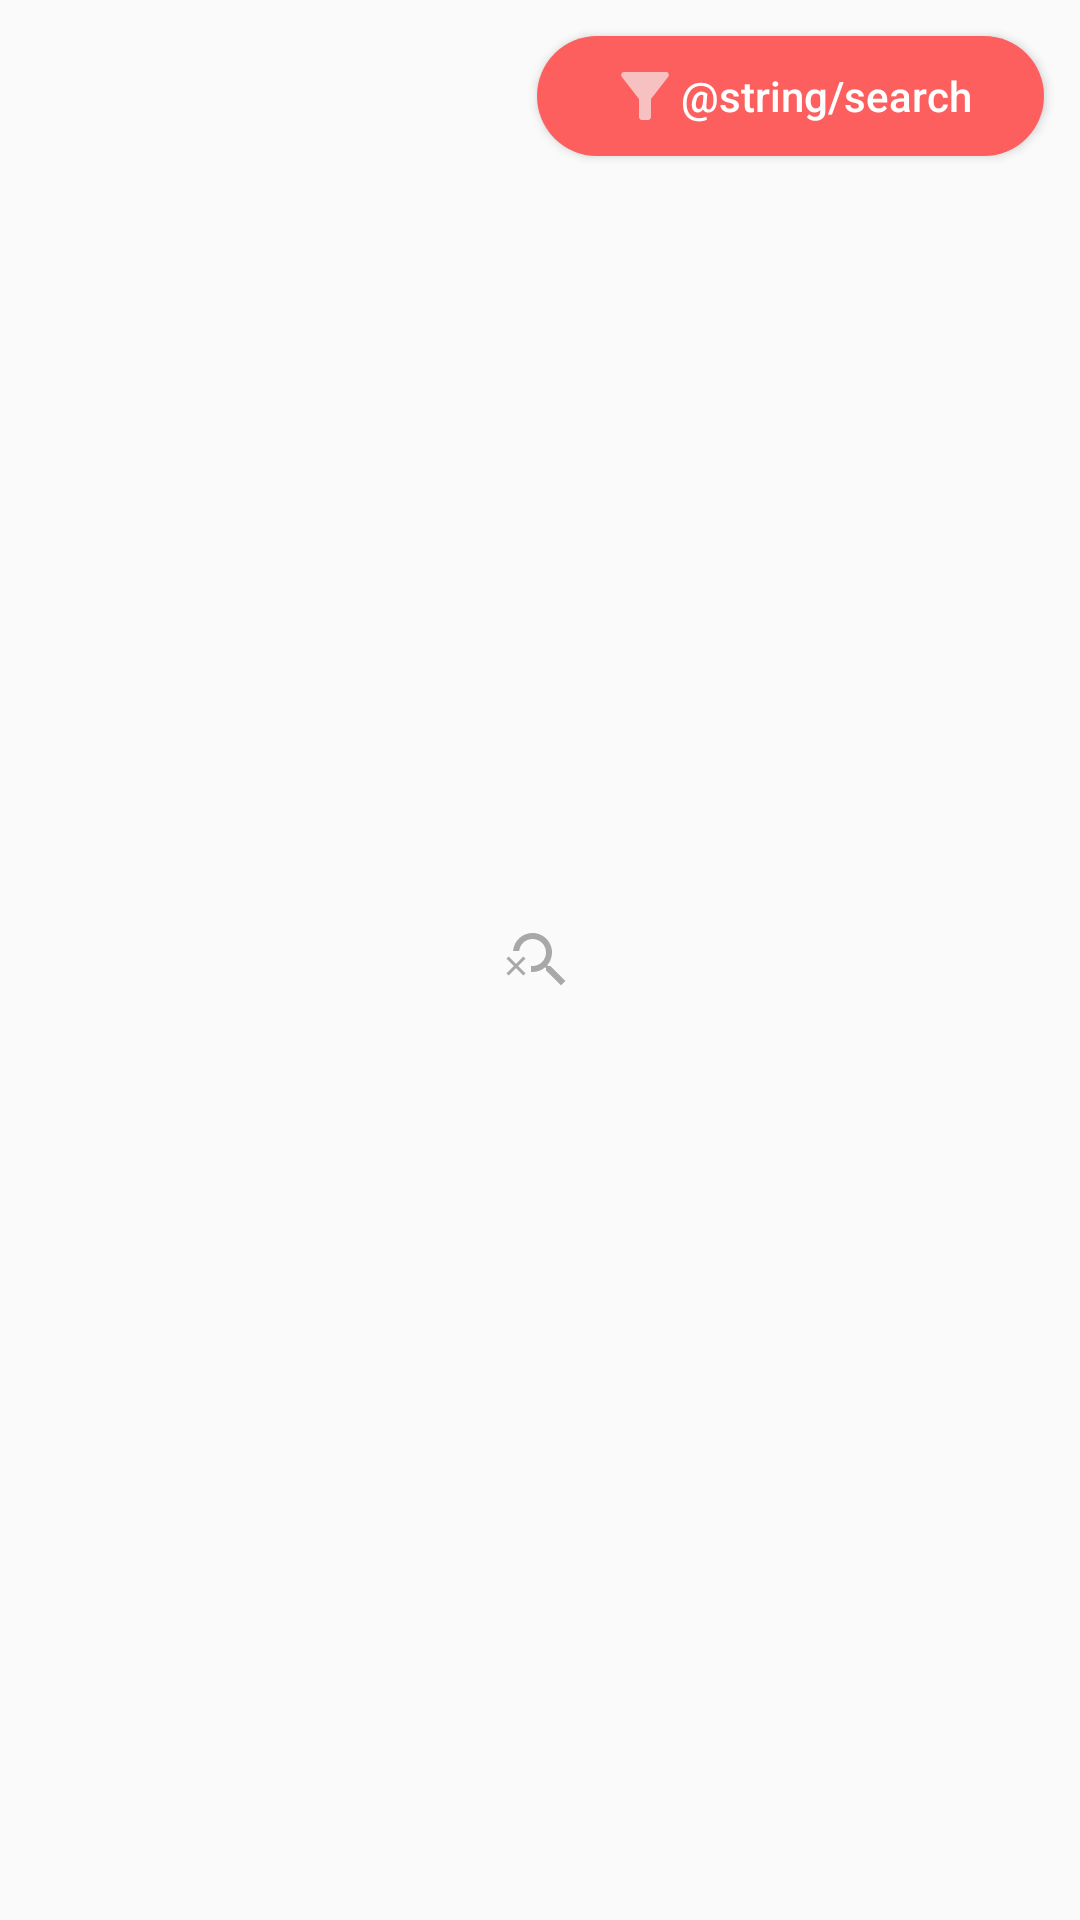

Where icons sit on this 1080w x 1920h app screen, as (x1, y1, x2, y2):
no search: (507, 933, 565, 985)
